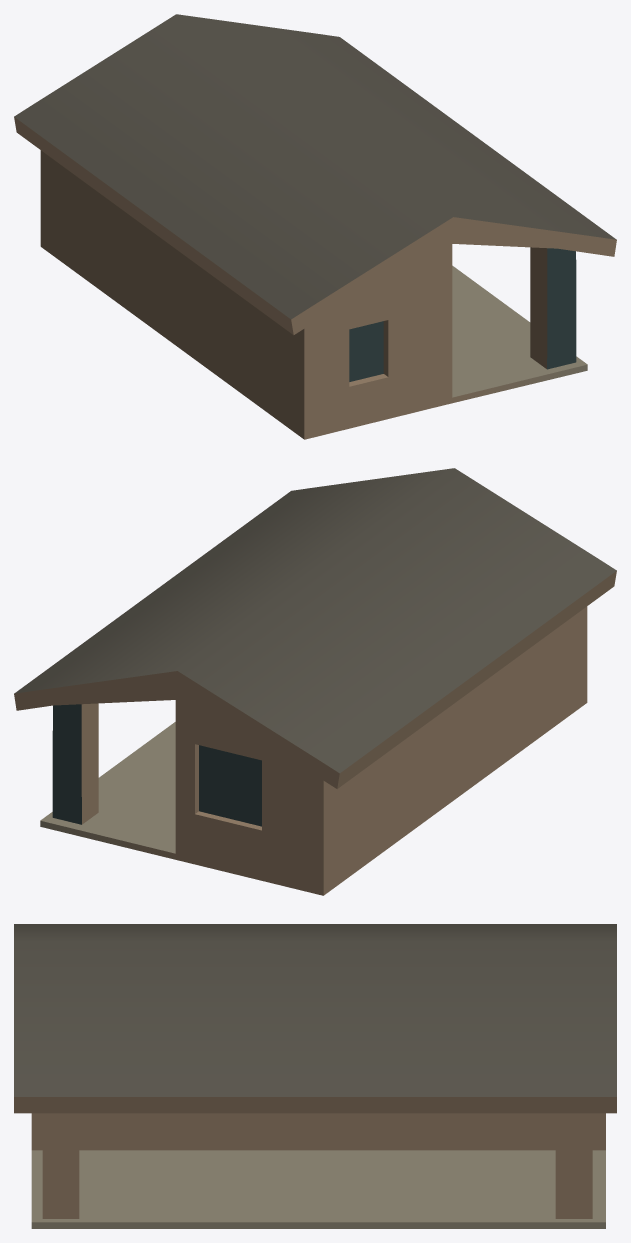
3 renders of one model, top to bottom at view 1: azimuth 30°, elevation 25°; view 2: azimuth 150°, elevation 25°; view 3: azimuth 270°, elevation 25°, orthographic. The views are drawn at different scales.
Parts seen in each view (by area): view 1: pCube18:PIV; view 2: pCube18:PIV; view 3: pCube18:PIV.
Part boxes in pixels (box(x1,y1,x2,y2)): pCube18:PIV: box(14, 14, 616, 439); pCube18:PIV: box(14, 468, 616, 895); pCube18:PIV: box(14, 924, 616, 1228).
Bounding box in the file's own units: 3.31 × 1.89 × 4.88.
